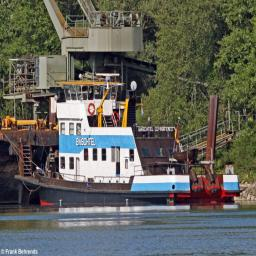tugboat: (14, 72, 246, 213)
